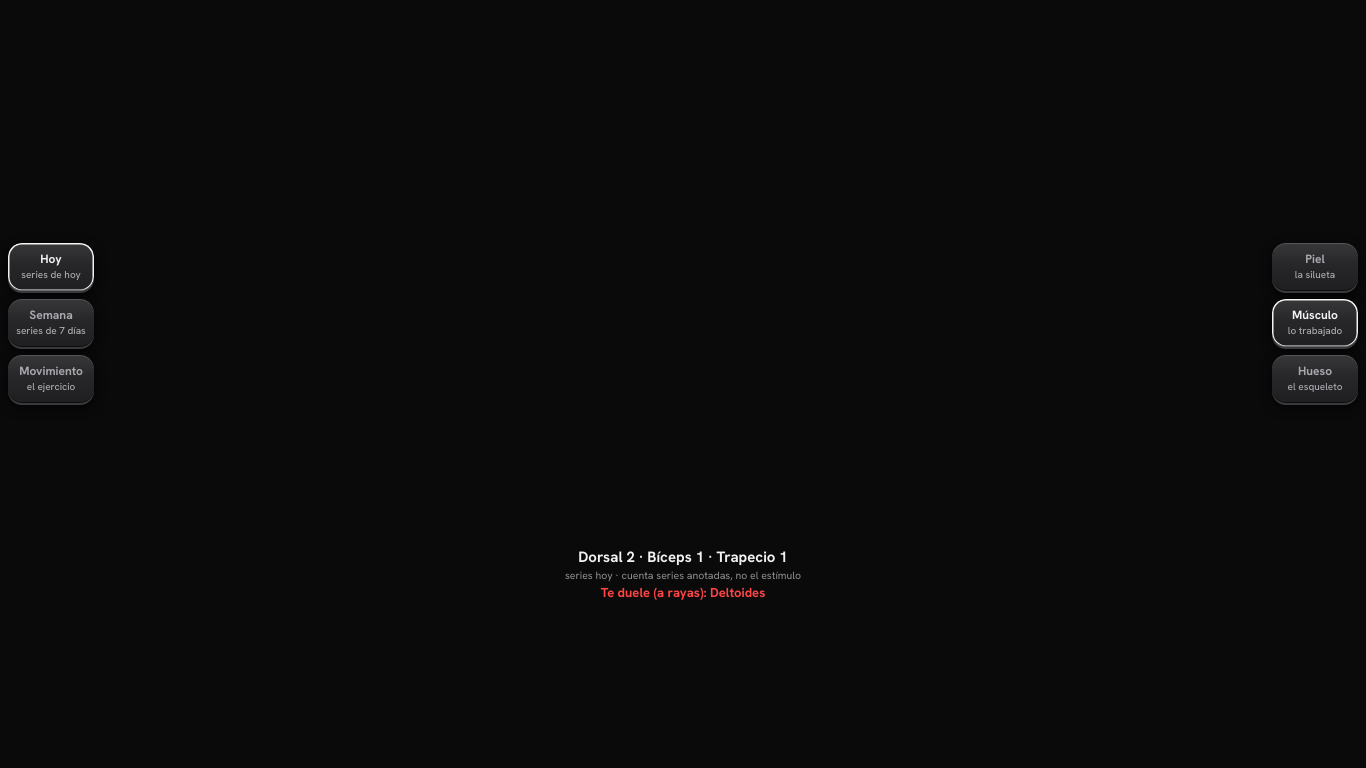
Scenario: la portada del cuerpo: capas, lectura y dolor › la hoja de detalle lista las 15 regiones con sus series y marca la que duele
Click the button with aria-label "Ver series por región" at (683, 558), box [578, 548, 788, 567]
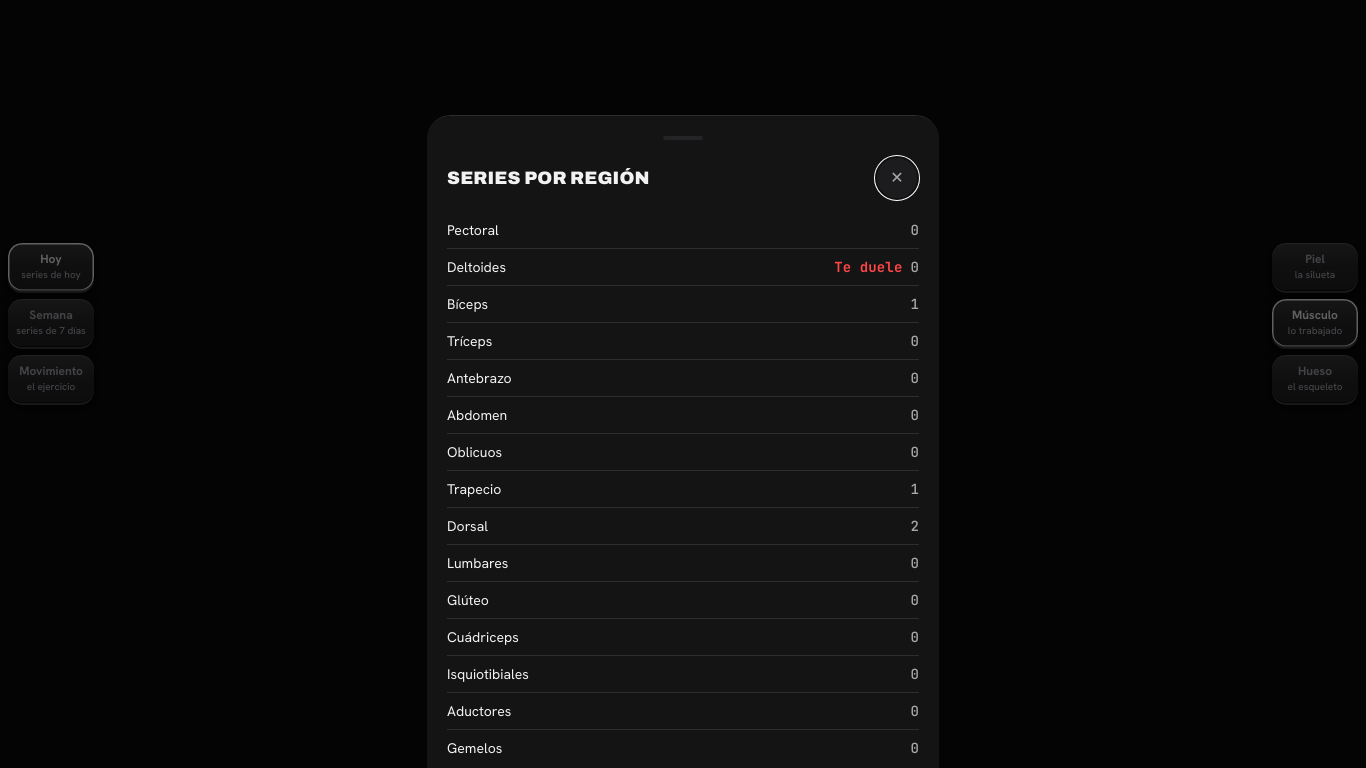
Expected: the number of list items is 15
Expected: the list item "Dorsal 2" is shown, [447, 507, 919, 544]
Expected: the list item "Deltoides Te duele0" is shown, [447, 248, 919, 285]
